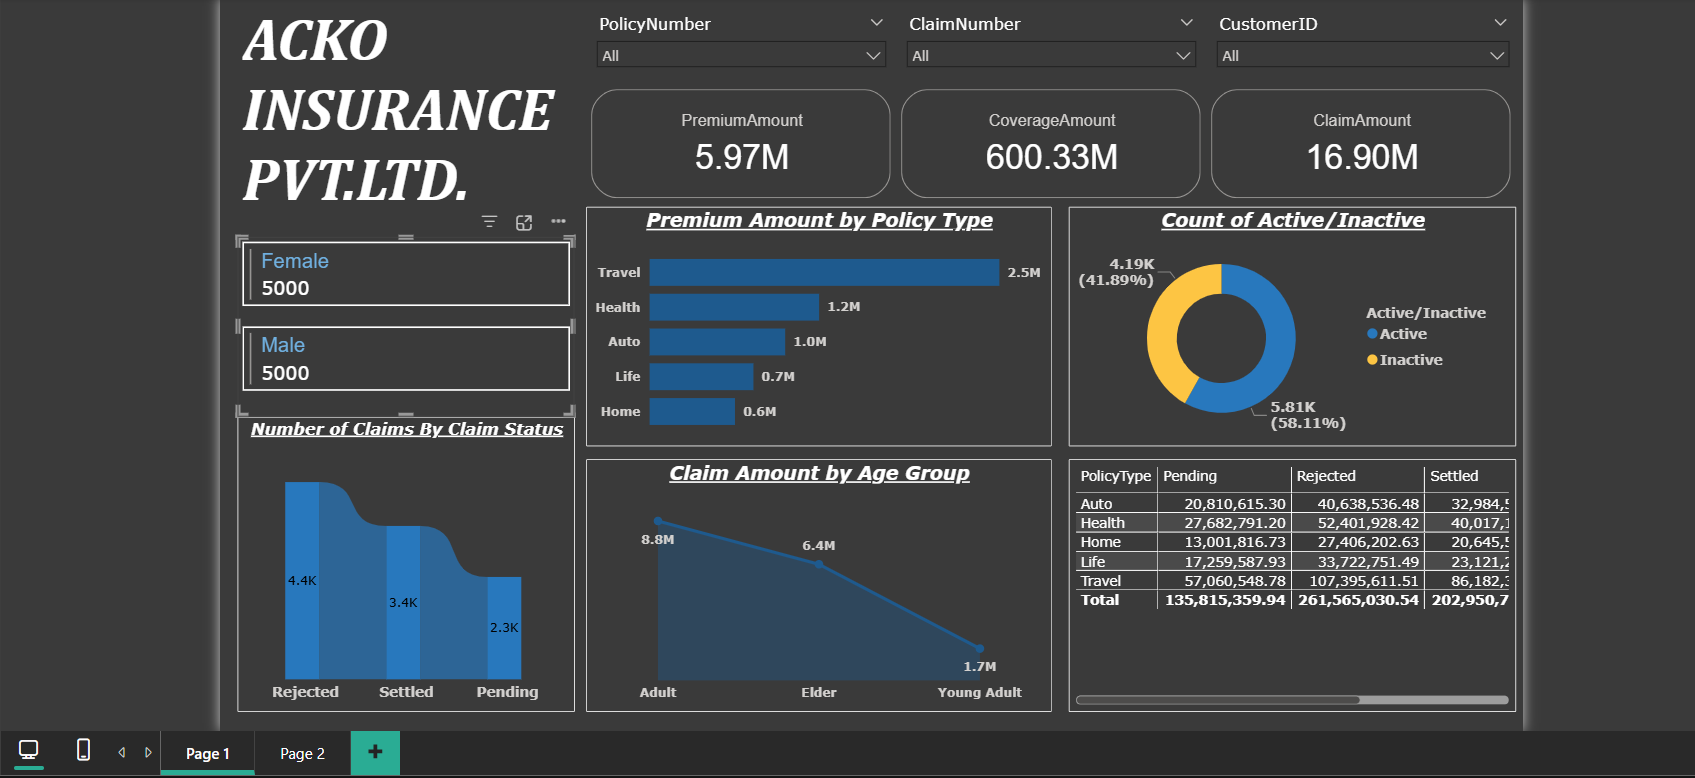

The dashboard page shown, as its layout file describes it:
{"tool":"powerbi","page":{"name":"Page 1","canvas":[1280,720],"ordinal":0},"visuals":[{"type":"slicer","fields":{"Values":["InsuranceData.PolicyNumber"]},"box":[359.5,11,304.3,73.6],"z":0},{"type":"slicer","fields":{"Values":["InsuranceData.ClaimNumber"]},"box":[663.8,11,304.3,73.6],"z":1000},{"type":"slicer","fields":{"Values":["InsuranceData.CustomerID"]},"box":[968.1,11,308,63.8],"z":2000},{"type":"textbox","box":[17.2,0,331.3,223.3],"z":3000},{"type":"cardVisual","fields":{"Data":["Sum(InsuranceData.PremiumAmount)"]},"box":[359.5,84.7,304.3,117.8],"z":4000},{"type":"cardVisual","fields":{"Data":["Sum(InsuranceData.CoverageAmount)"]},"box":[663.8,84.7,304.3,117.8],"z":5000},{"type":"cardVisual","fields":{"Data":["Sum(InsuranceData.ClaimAmount)"]},"box":[968.1,84.7,304.3,117.8],"z":6000},{"type":"multiRowCard","fields":{"Values":["InsuranceData.Gender","CountNonNull(InsuranceData.Gender)"]},"box":[17.2,234.4,331.3,176.7],"z":7000},{"type":"ribbonChart","title":"Number of Claims By Claim Status","fields":{"Category":["InsuranceData.ClaimStatus"],"Y":["CountNonNull(InsuranceData.ClaimStatus)"]},"box":[17.2,411,331.3,289.6],"z":8000},{"type":"barChart","title":"Premium Amount by Policy Type","fields":{"Category":["InsuranceData.PolicyType"],"Y":["Sum(InsuranceData.PremiumAmount)"]},"box":[359.5,204.9,456.4,235.6],"z":9000},{"type":"lineChart","title":"Claim Amount by Age Group","fields":{"Category":["InsuranceData.Age Group"],"Y":["Sum(InsuranceData.ClaimAmount)"]},"box":[359.5,452.8,456.4,247.9],"z":10000},{"type":"donutChart","title":"Count of Active/Inactive ","fields":{"Category":["InsuranceData.Active/Inactive"],"Y":["CountNonNull(InsuranceData.Active/Inactive)"]},"box":[833.1,204.9,439.3,235.6],"z":11000},{"type":"pivotTable","fields":{"Values":["Sum(InsuranceData.CoverageAmount)"],"Rows":["InsuranceData.PolicyType"],"Columns":["InsuranceData.ClaimStatus"]},"box":[833,453,439,248],"z":12000}]}

Visuals, with their boxes on the page's 1280x720 design canvas (x1, y1, x2, y2). These are canvas units, not pixel positions in the 1695x778 screenshot, which may show the page scaled, cropped or inside an application window:
slicer - InsuranceData.PolicyNumber: 360/11/664/85
slicer - InsuranceData.ClaimNumber: 664/11/968/85
slicer - InsuranceData.CustomerID: 968/11/1276/75
textbox: 17/0/348/223
cardVisual - Sum(InsuranceData.PremiumAmount): 360/85/664/202
cardVisual - Sum(InsuranceData.CoverageAmount): 664/85/968/202
cardVisual - Sum(InsuranceData.ClaimAmount): 968/85/1272/202
multiRowCard - InsuranceData.Gender x CountNonNull(InsuranceData.Gender): 17/234/348/411
"Number of Claims By Claim Status" ribbonChart: 17/411/348/701
"Premium Amount by Policy Type" barChart: 360/205/816/440
"Claim Amount by Age Group" lineChart: 360/453/816/701
"Count of Active/Inactive " donutChart: 833/205/1272/440
pivotTable - Sum(InsuranceData.CoverageAmount) x InsuranceData.PolicyType: 833/453/1272/701
